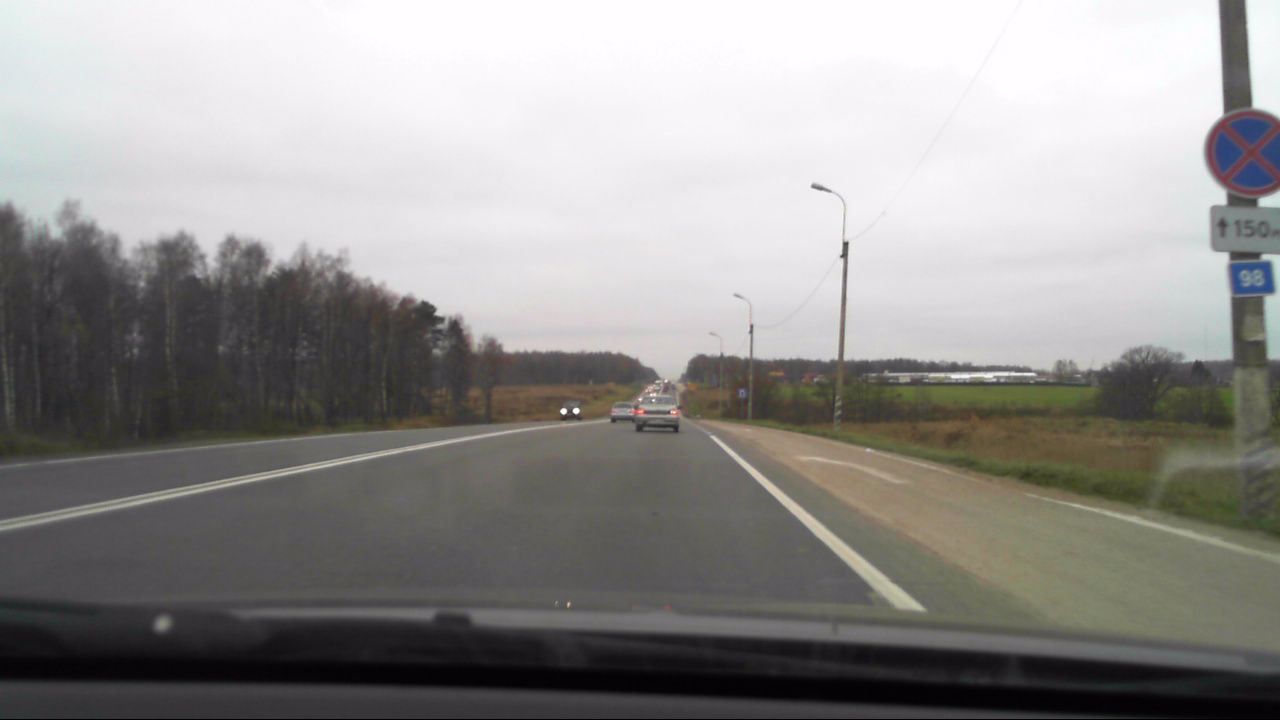No Parking: (1194, 106, 1279, 200)
